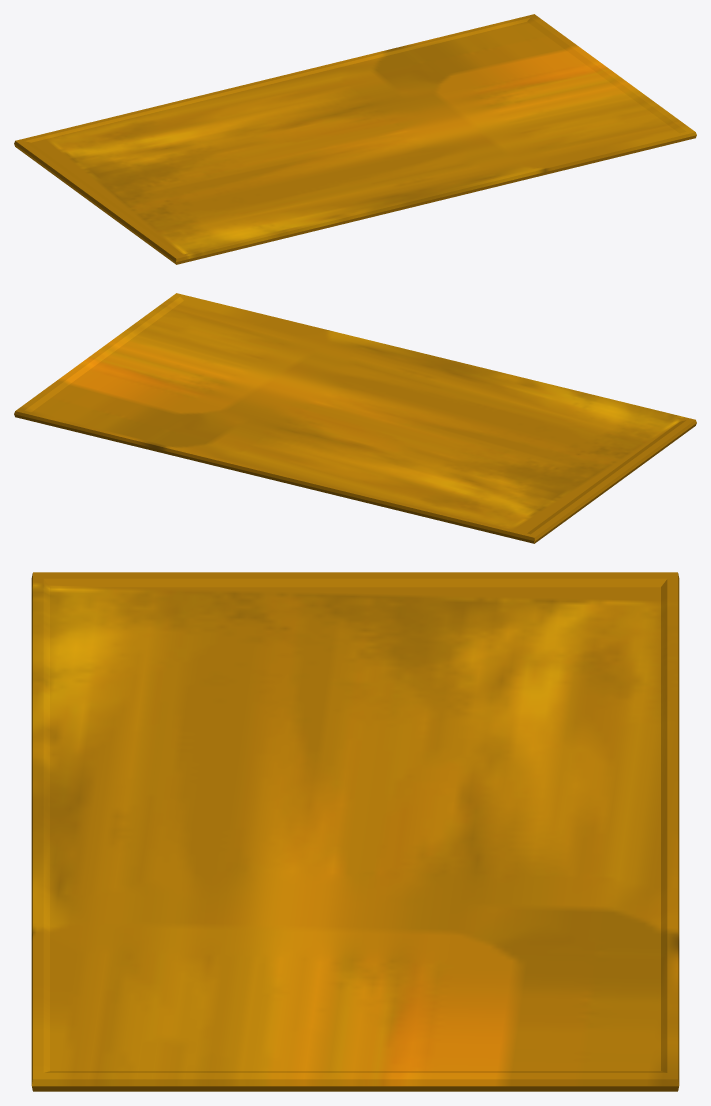
File: obj_Desk_rolling-drawer_shelves.obj
3 renders of one model, top to bottom at view 1: azimuth 30°, elevation 25°; view 2: azimuth 150°, elevation 25°; view 3: azimuth 270°, elevation 25°, orthographic. The views are drawn at different scales.
Parts seen in each view (by area): view 1: obj_Desk_rolling-drawer_shelves; view 2: obj_Desk_rolling-drawer_shelves; view 3: obj_Desk_rolling-drawer_shelves.
Boxes of the visible parts, left/top/right/bottom form: obj_Desk_rolling-drawer_shelves: left=14, top=14, right=696, bottom=264; obj_Desk_rolling-drawer_shelves: left=14, top=293, right=696, bottom=543; obj_Desk_rolling-drawer_shelves: left=31, top=572, right=679, bottom=1091.
Bounding box in the file's own units: 0.7898 × 0.00879 × 0.4248.
